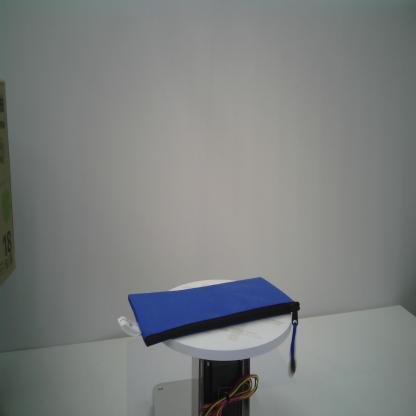Stationery: (116, 275, 301, 377)
